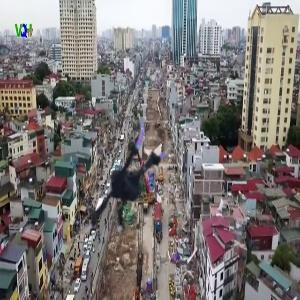drone: (52, 111, 182, 241)
